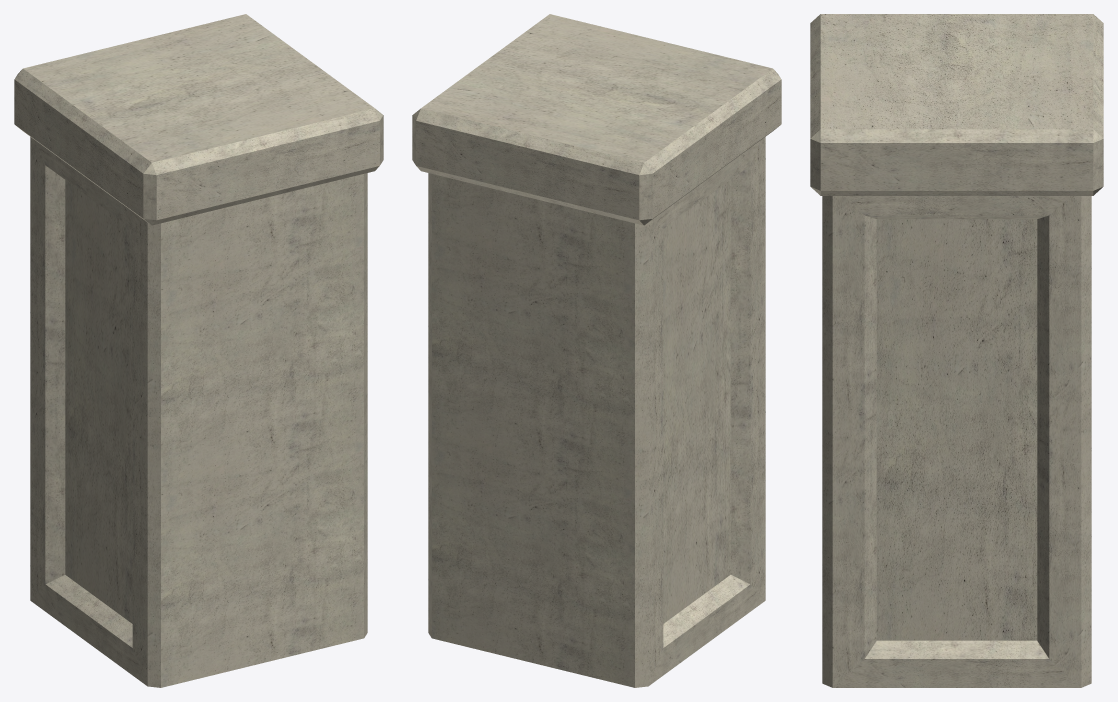
File: GSDRailing7-10m-Pole.FBX
3 views of the same model, side by side, from view 1: azimuth 30°, elevation 25°; view 2: azimuth 150°, elevation 25°; view 3: azimuth 270°, elevation 25° (orthographic). The views are drawn at different scales.
Visible parts, largest first — view 1: GSDRailing7-10m-Pole; view 2: GSDRailing7-10m-Pole; view 3: GSDRailing7-10m-Pole.
Boxes of the visible parts, x1,y1,x2,y2 form: GSDRailing7-10m-Pole: (14, 14, 383, 687); GSDRailing7-10m-Pole: (412, 14, 781, 687); GSDRailing7-10m-Pole: (810, 14, 1103, 687).
Bounding box in the file's own units: 0.6 × 1.26 × 0.6.
